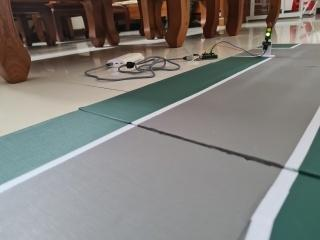green: (263, 15, 274, 43)
